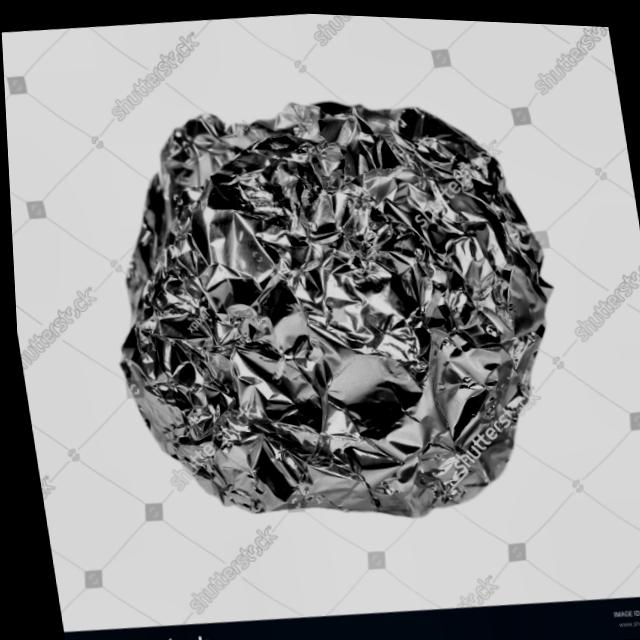Foil: (37, 34, 618, 576)
